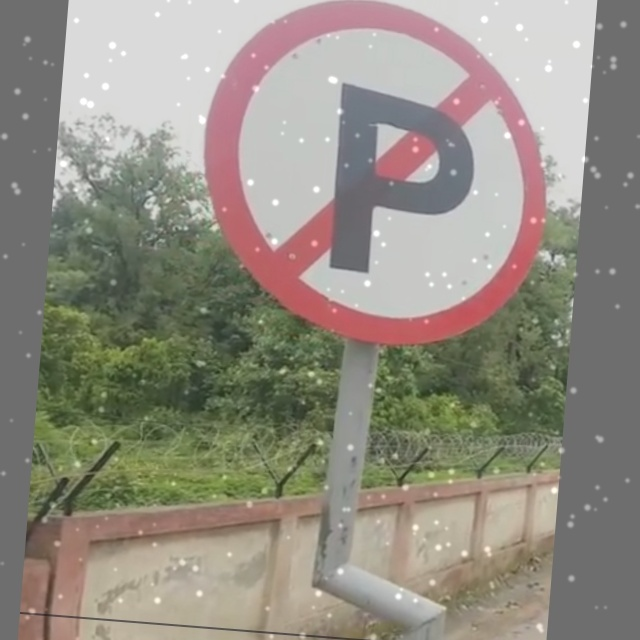No_Parking: (200, 1, 556, 348)
